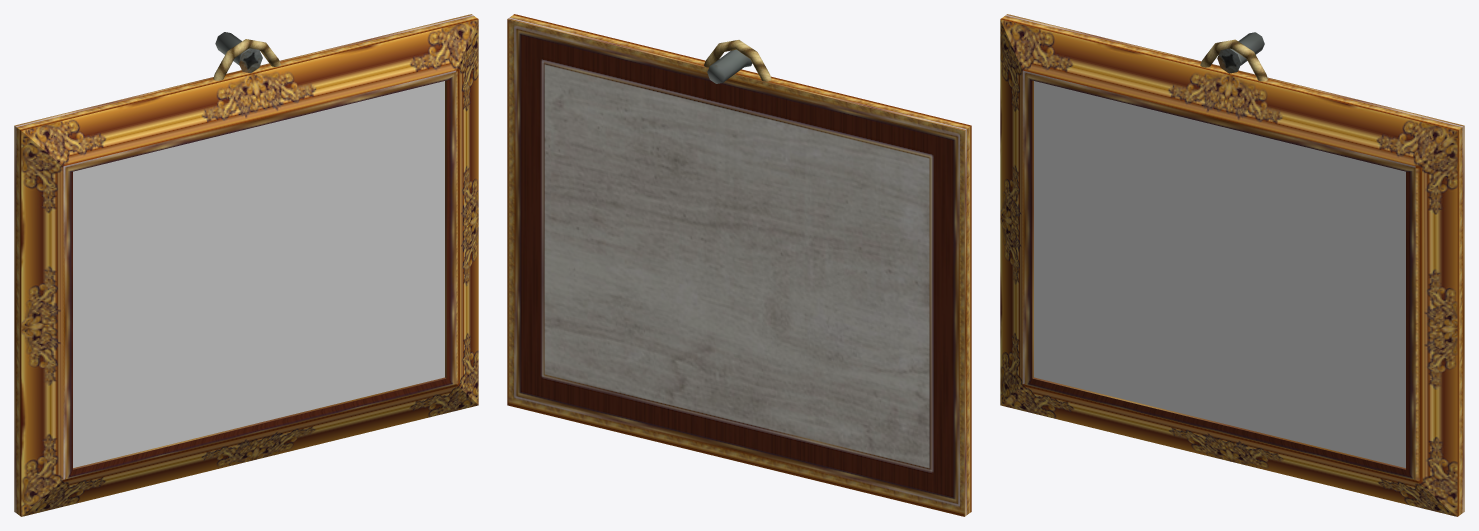
Rendered from frame-02.fbx.
3 views of the same model, side by side, from view 1: azimuth 30°, elevation 25°; view 2: azimuth 150°, elevation 25°; view 3: azimuth 330°, elevation 25° (orthographic).
Visible parts, largest first — view 1: Plane.021, Plane.022; view 2: Plane.022; view 3: Plane.021, Plane.022.
Boxes of the visible parts, left/top/right/bottom form: Plane.021: left=73, top=81, right=444, bottom=467; Plane.022: left=14, top=14, right=478, bottom=516; Plane.022: left=507, top=14, right=971, bottom=516; Plane.021: left=1034, top=81, right=1405, bottom=467; Plane.022: left=1000, top=14, right=1464, bottom=516.
Bounding box in the file's own units: 1.11 × 0.9698 × 0.1502.
